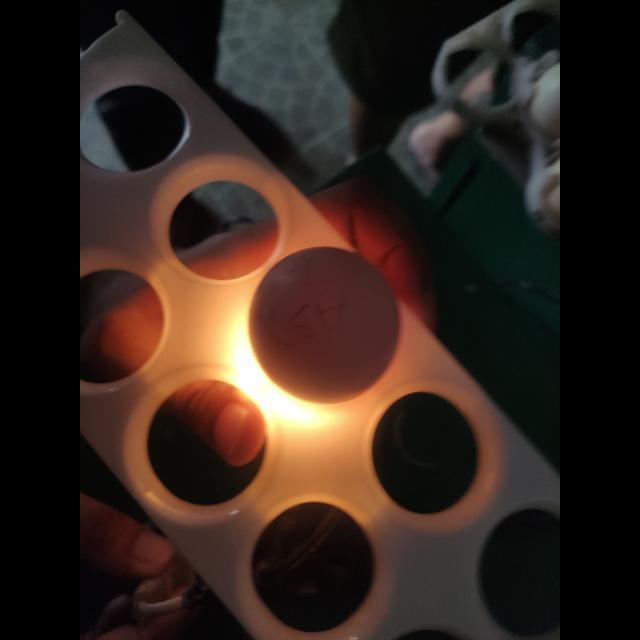Fertile: (248, 243, 402, 404)
